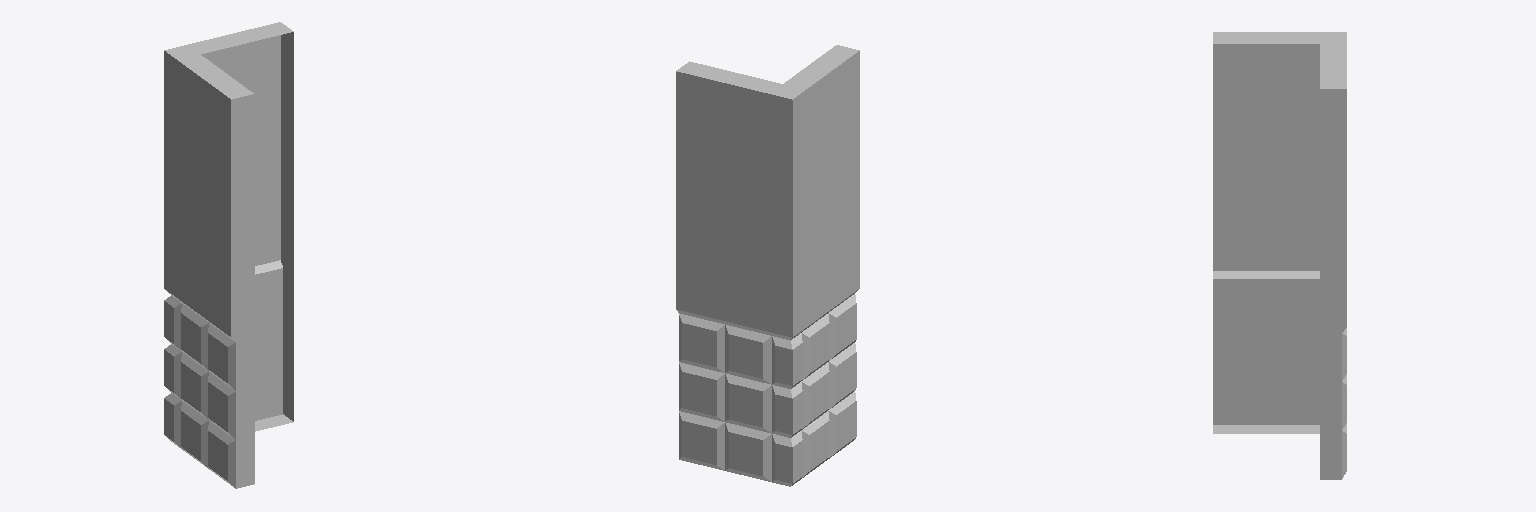
Rendered from wall_modular_tiled_half_corner_outer_A.obj.
The picture shows the model from 3 angles: view 1: azimuth 30°, elevation 25°; view 2: azimuth 150°, elevation 25°; view 3: azimuth 270°, elevation 25°; orthographic projection.
Parts seen in each view (by area): view 1: wall_modular_tiled_half_corner_outer_A; view 2: wall_modular_tiled_half_corner_outer_A; view 3: wall_modular_tiled_half_corner_outer_A.
Part boxes in pixels (x1,y1,x2,y2): wall_modular_tiled_half_corner_outer_A: (164, 22, 293, 488); wall_modular_tiled_half_corner_outer_A: (676, 45, 859, 486); wall_modular_tiled_half_corner_outer_A: (1213, 32, 1346, 479).
Bounding box in the file's own units: 1.25 × 4 × 1.25.